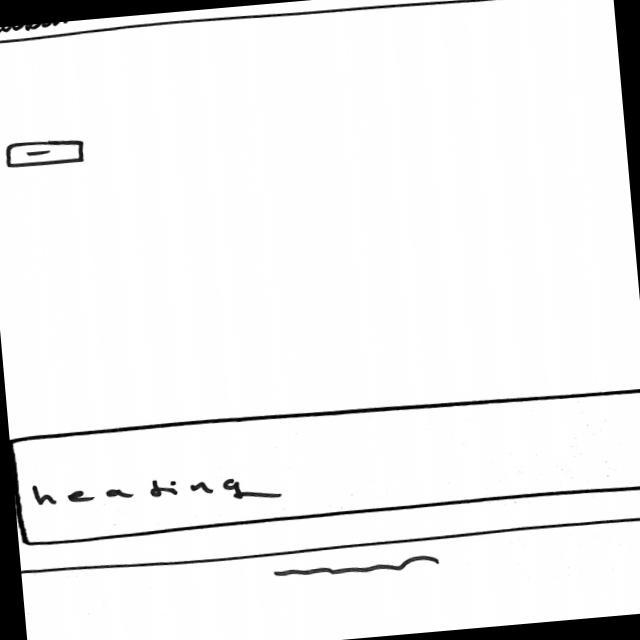container: (9, 378, 640, 547), (0, 0, 612, 48)
icon-button: (2, 136, 88, 171)
label: (29, 462, 284, 521), (0, 20, 82, 36)
text: (269, 552, 440, 584)
